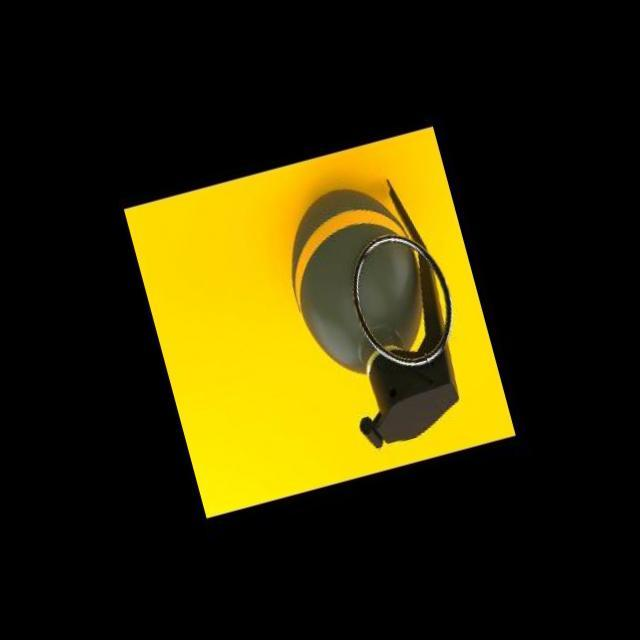grenade: (266, 155, 492, 463)
